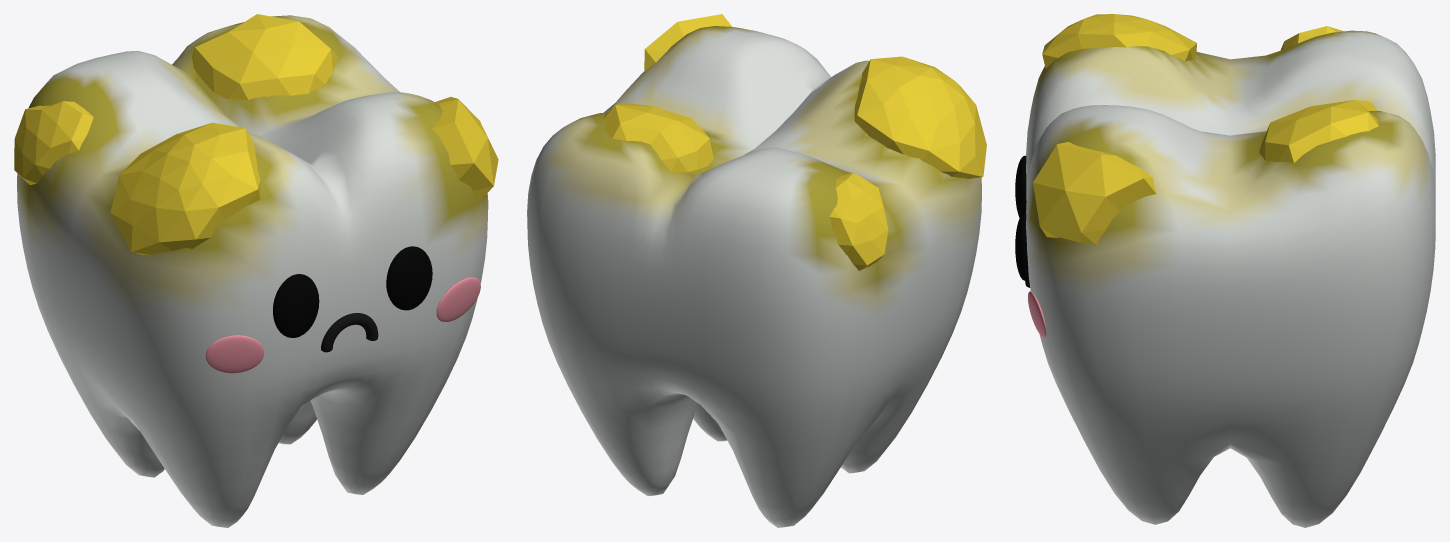
The model's file is gigiasam.glb.
The picture shows the model from 3 angles, left to right: view 1: azimuth 30°, elevation 25°; view 2: azimuth 150°, elevation 25°; view 3: azimuth 270°, elevation 25°; orthographic projection. The views are drawn at different scales.
Visible parts, largest first — view 1: Cube, Icosphere, Icosphere.001, Plane, Icosphere.003, Icosphere.002, Plane.001, Torus; view 2: Cube, Icosphere, Icosphere.001, Icosphere.003, Icosphere.002; view 3: Cube, Icosphere.002, Icosphere.001, Icosphere, Plane, Icosphere.003, Plane.001.
Boxes of the visible parts, left/top/right/bottom form: Cube: left=17, top=15, right=488, bottom=527; Icosphere: left=110, top=122, right=260, bottom=255; Icosphere.001: left=192, top=14, right=338, bottom=99; Plane: left=273, top=246, right=432, bottom=337; Icosphere.003: left=14, top=101, right=93, bottom=184; Icosphere.002: left=432, top=97, right=498, bottom=202; Plane.001: left=205, top=277, right=480, bottom=373; Torus: left=321, top=313, right=378, bottom=352; Cube: left=527, top=26, right=981, bottom=527; Icosphere: left=854, top=56, right=986, bottom=178; Icosphere.001: left=603, top=102, right=713, bottom=173; Icosphere.003: left=829, top=172, right=888, bottom=270; Icosphere.002: left=644, top=14, right=732, bottom=71; Cube: left=1026, top=30, right=1435, bottom=527; Icosphere.002: left=1033, top=142, right=1156, bottom=245; Icosphere.001: left=1259, top=100, right=1378, bottom=162; Icosphere: left=1042, top=14, right=1196, bottom=68; Plane: left=1015, top=155, right=1028, bottom=280; Icosphere.003: left=1280, top=26, right=1343, bottom=50; Plane.001: left=1028, top=291, right=1046, bottom=337.
Bounding box in the file's own units: 2.58 × 2.82 × 2.52.
